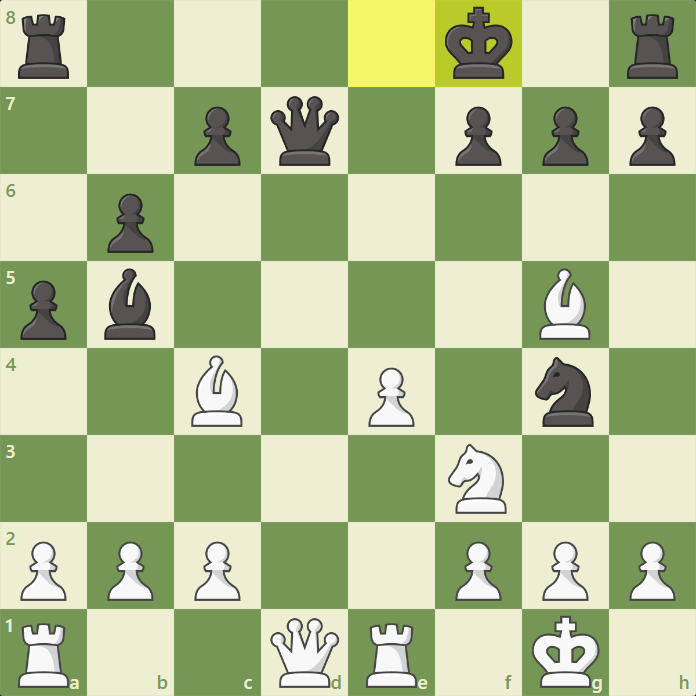B: (188, 354, 245, 430), (537, 267, 593, 342)
K: (530, 614, 601, 690)
N: (445, 442, 509, 516)
P: (540, 539, 590, 604), (453, 538, 503, 603), (191, 538, 241, 603), (104, 537, 154, 602), (17, 537, 67, 602), (366, 364, 416, 429), (627, 538, 676, 603)
Q: (268, 615, 342, 690)
R: (14, 620, 71, 690), (365, 622, 420, 691)
b: (102, 266, 157, 343)
k: (442, 5, 515, 82)
n: (532, 355, 596, 429)
p: (106, 192, 155, 256), (17, 277, 66, 341), (191, 103, 240, 167), (453, 104, 502, 168), (540, 103, 589, 167), (627, 103, 676, 167)
q: (268, 94, 341, 169)
r: (15, 11, 72, 82), (625, 12, 680, 82)
